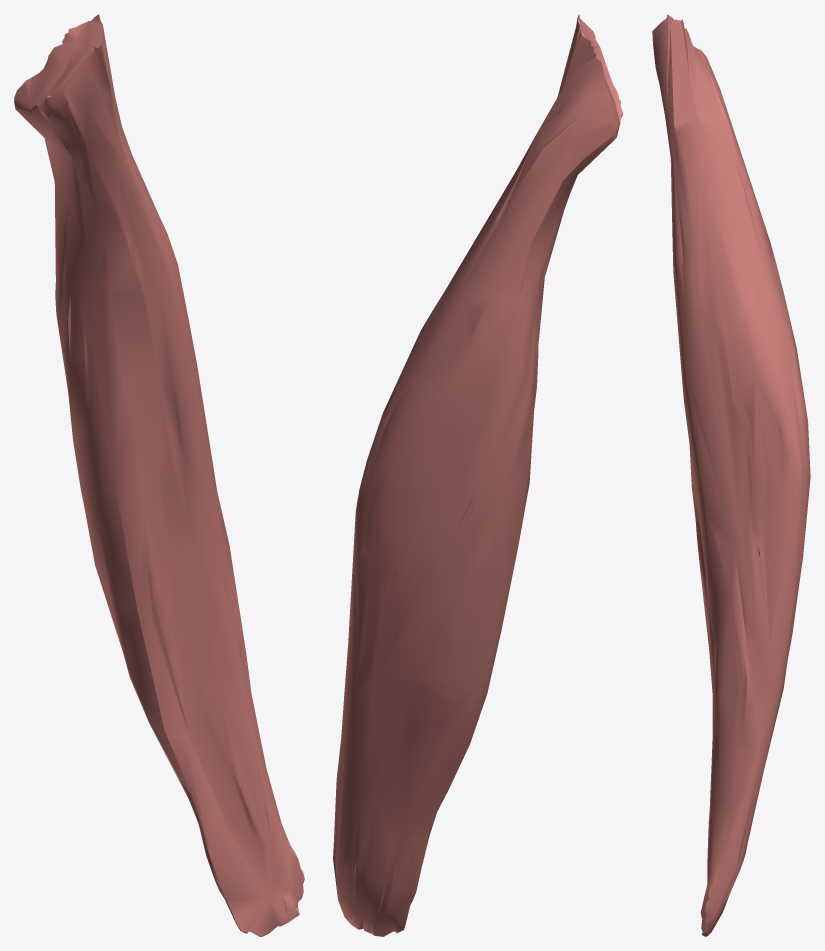
Rendered from fma37700_fj1479m.glb.
3 renders of one model, left to right at view 1: azimuth 30°, elevation 25°; view 2: azimuth 150°, elevation 25°; view 3: azimuth 270°, elevation 25°, orthographic. The views are drawn at different scales.
Visible parts, largest first — view 1: FMA37700_FJ1479M; view 2: FMA37700_FJ1479M; view 3: FMA37700_FJ1479M.
Part boxes in pixels (x1,y1,x2,y2): FMA37700_FJ1479M: [14, 14, 304, 936]; FMA37700_FJ1479M: [333, 14, 623, 936]; FMA37700_FJ1479M: [652, 14, 810, 936].
Size of the model in its own units: 0.0818 by 0.2655 by 0.0453.
